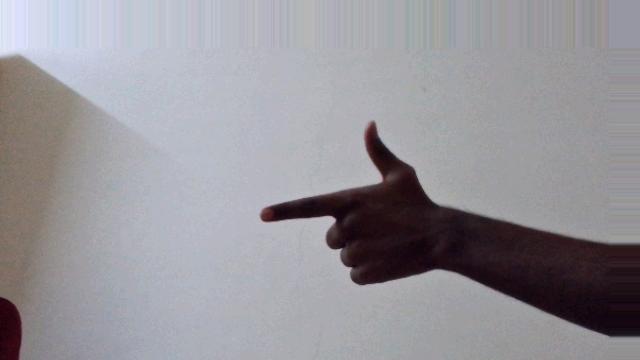Right: (256, 120, 436, 288)
